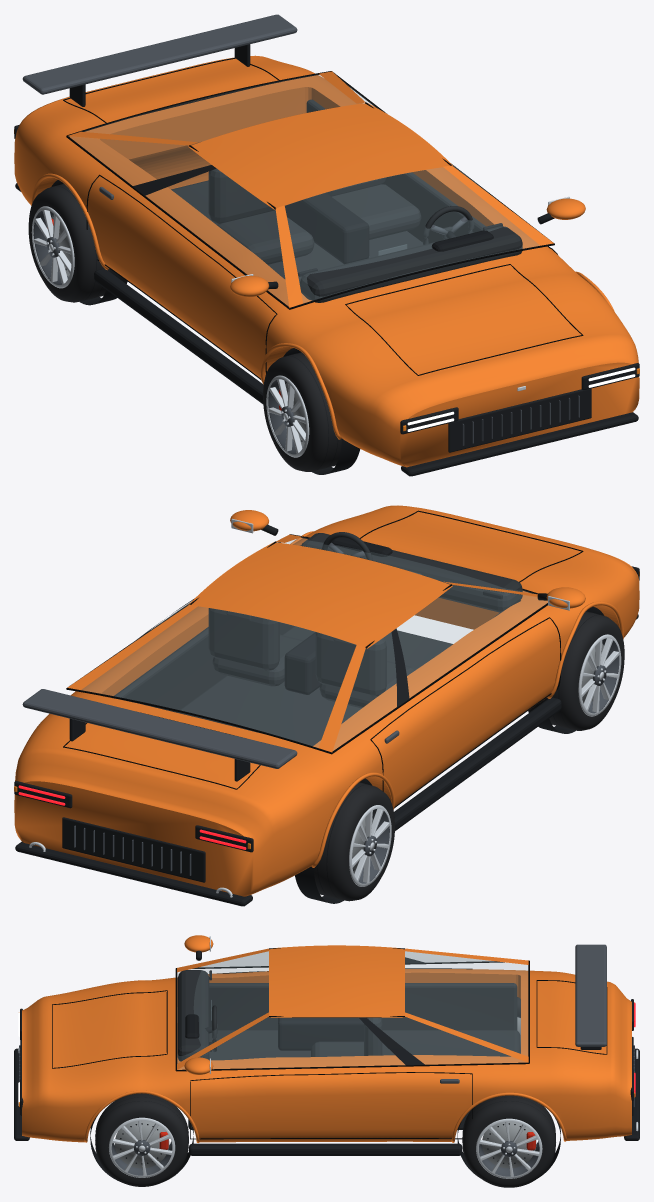
The model's file is supercar.glb.
3 renders of one model, top to bottom at view 1: azimuth 30°, elevation 25°; view 2: azimuth 150°, elevation 25°; view 3: azimuth 270°, elevation 25°, orthographic. The views are drawn at different scales.
Visible parts, largest first — view 1: Sculpted body shell.005, Windshield.005, Painted roof.005, Side glass.010, Rear glass.005, Rear aero wing.001, Interior dashboard.005, Front grille housing.005, Tire.022, Tire.020, Interior centre console.005, Rocker aero sill.010 (+23 smaller); view 2: Sculpted body shell.005, Rear glass.005, Painted roof.005, Side glass.010, Interior cabin floor.005, Rear aero wing.001, Interior door card.011, Tire.020, Rear diffuser grille.005, Interior dashboard.005, Tire.022, Interior seat back.017 (+26 smaller); view 3: Sculpted body shell.005, Side glass.011, Rear glass.005, Painted roof.005, Interior door card.010, Windshield.005, Interior cabin floor.005, Tire.021, Tire.023, Rocker aero sill.011, Rear aero wing.001, Interior dashboard.005 (+26 smaller).
Boxes of the visible parts, x1,y1,x2,y2 form: Sculpted body shell.005: [14, 55, 639, 467]; Windshield.005: [285, 167, 539, 302]; Painted roof.005: [195, 104, 445, 206]; Side glass.010: [70, 137, 288, 305]; Rear glass.005: [84, 74, 359, 142]; Rear aero wing.001: [22, 14, 297, 94]; Interior dashboard.005: [299, 226, 522, 302]; Front grille housing.005: [448, 388, 591, 452]; Tire.022: [263, 352, 341, 471]; Tire.020: [28, 184, 109, 302]; Interior centre console.005: [285, 192, 369, 264]; Rocker aero sill.010: [94, 268, 263, 403]; Sculpted body shell.005: [14, 505, 639, 896]; Rear glass.005: [82, 606, 355, 747]; Painted roof.005: [196, 543, 446, 645]; Side glass.010: [333, 586, 547, 750]; Interior cabin floor.005: [177, 626, 452, 746]; Rear aero wing.001: [22, 689, 297, 768]; Interior door card.011: [111, 622, 294, 712]; Tire.020: [313, 782, 394, 901]; Rear diffuser grille.005: [62, 817, 205, 882]; Interior dashboard.005: [301, 533, 522, 612]; Tire.022: [545, 611, 624, 730]; Interior seat back.017: [208, 608, 279, 670]; Sculpted body shell.005: [22, 969, 631, 1142]; Side glass.011: [179, 1017, 525, 1069]; Rear glass.005: [405, 951, 527, 1055]; Painted roof.005: [269, 946, 404, 1016]; Interior door card.010: [209, 983, 517, 1030]; Windshield.005: [177, 951, 268, 1063]; Interior cabin floor.005: [208, 1030, 520, 1060]; Tire.021: [462, 1095, 555, 1187]; Tire.023: [95, 1093, 188, 1186]; Rocker aero sill.011: [189, 1143, 462, 1155]; Rear aero wing.001: [575, 944, 606, 1046]; Interior dashboard.005: [177, 970, 209, 1061].
Size of the model in its own units: 2.43 by 1.31 by 4.74.
